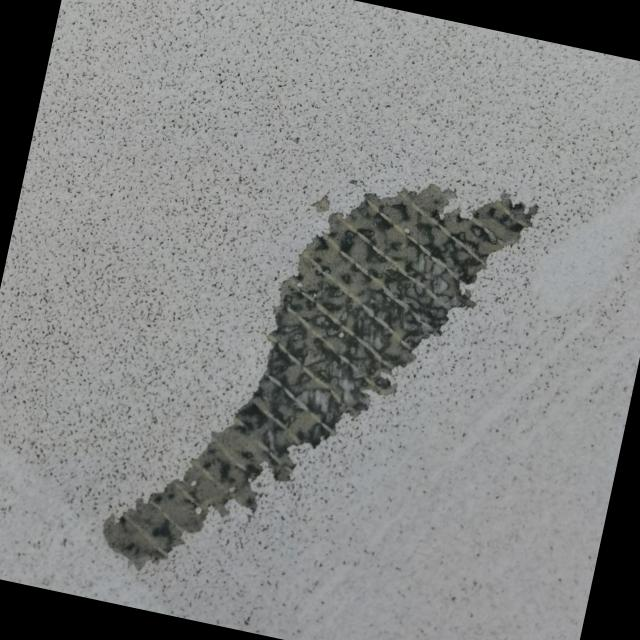surface_peeling: (94, 128, 540, 637)
